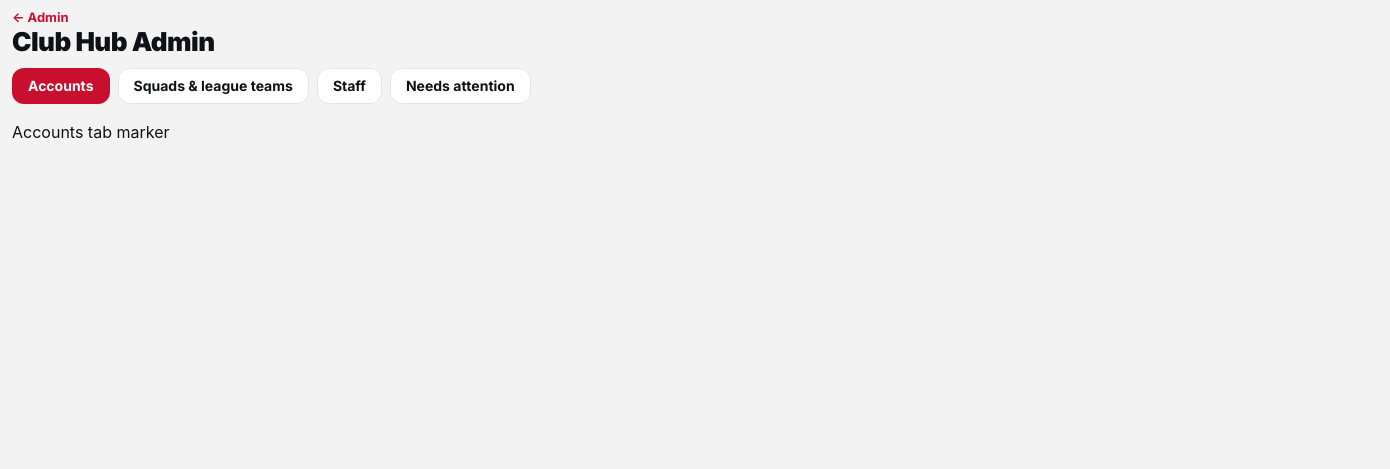
AdminDashboard — tabs › switches tab client-side, without leaving the dashboard
The image size is (1390, 469).
Click the link "Squads & league teams" at (213, 86), box [118,68,309,104]
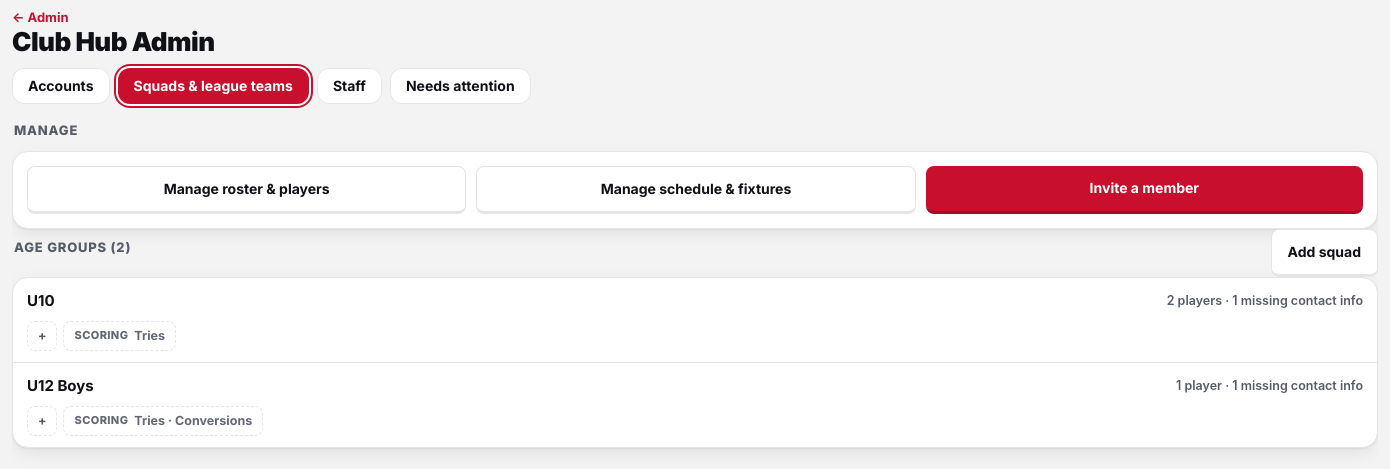
Expected: the heading "Club Hub Admin" is shown, [12,30,214,54]
Expected: the text "U10" is shown, [27,289,55,313]
Expected: the text "Accounts tab marker" is gone
